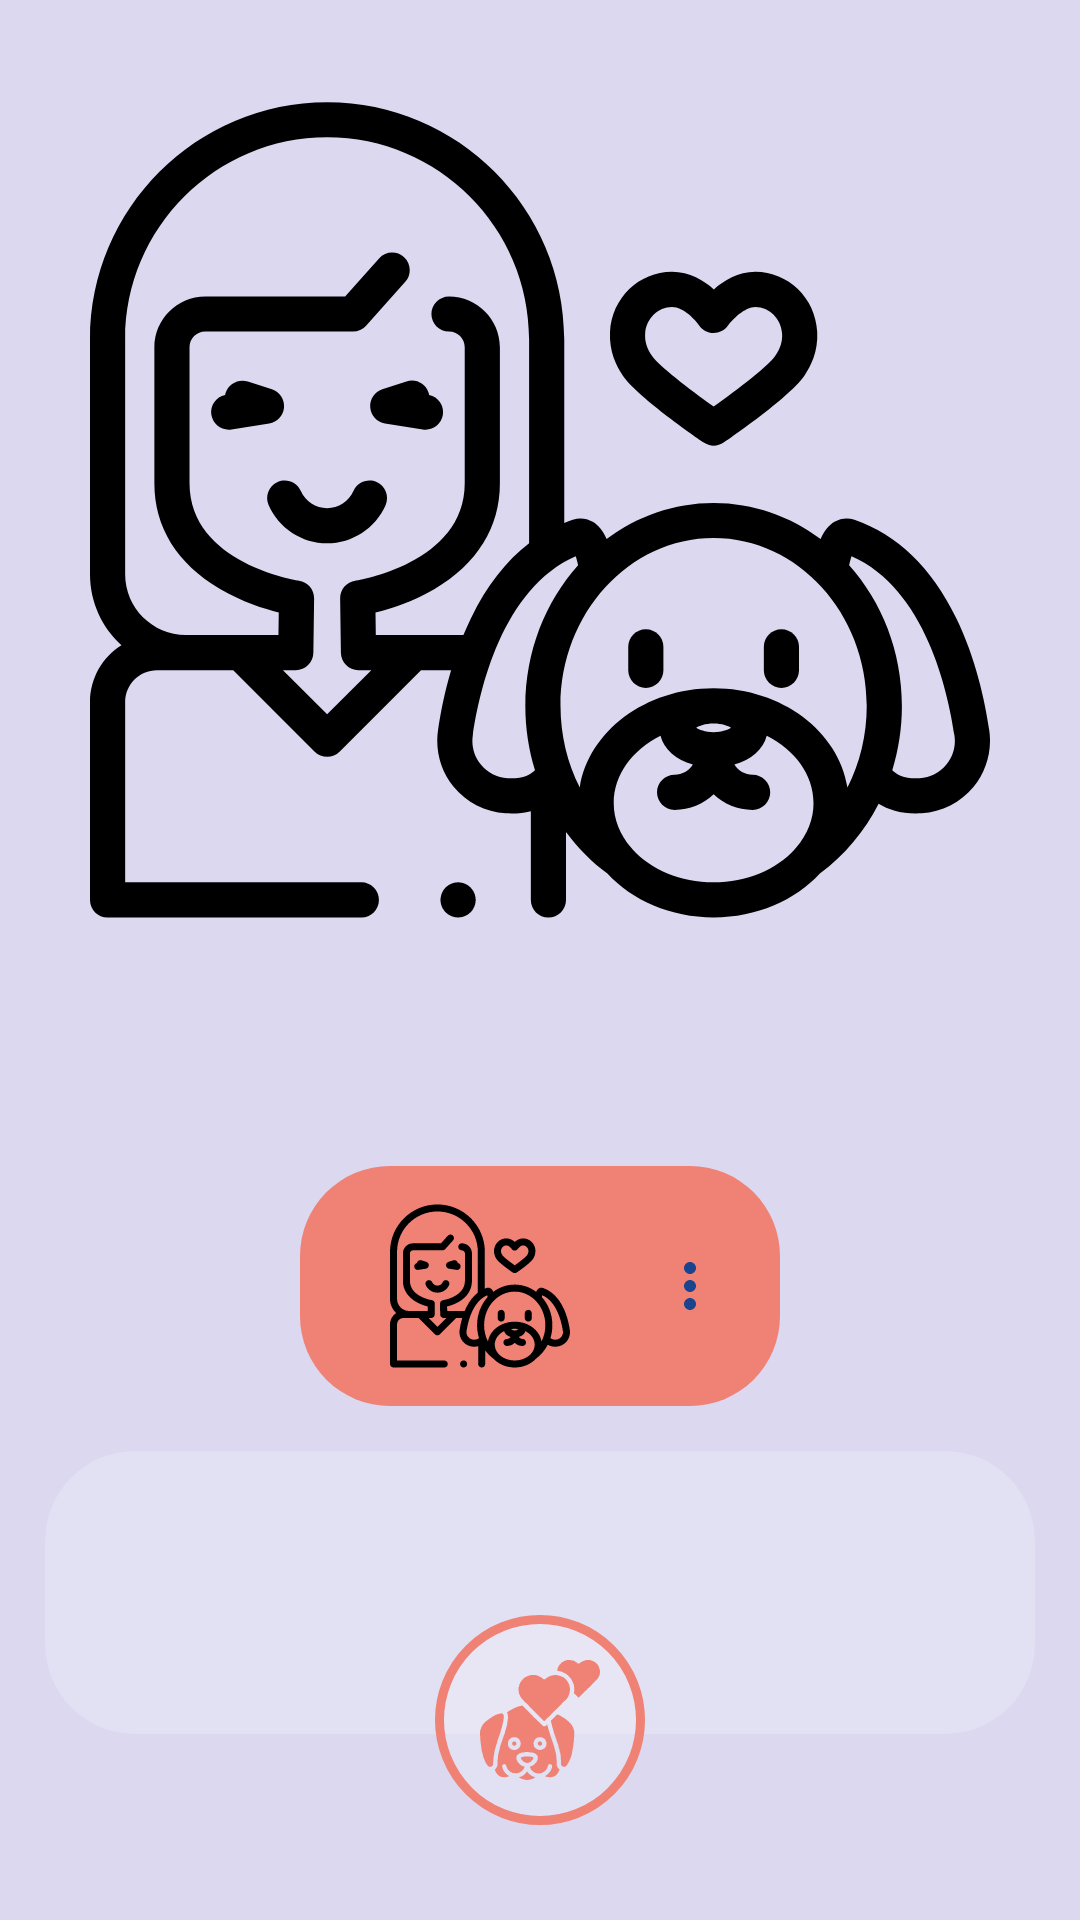

Where to tap for icons on this 1080px x 1920px app screen, as point (x, y):
dog heart: point (540, 1720)
more: point (690, 1286)
